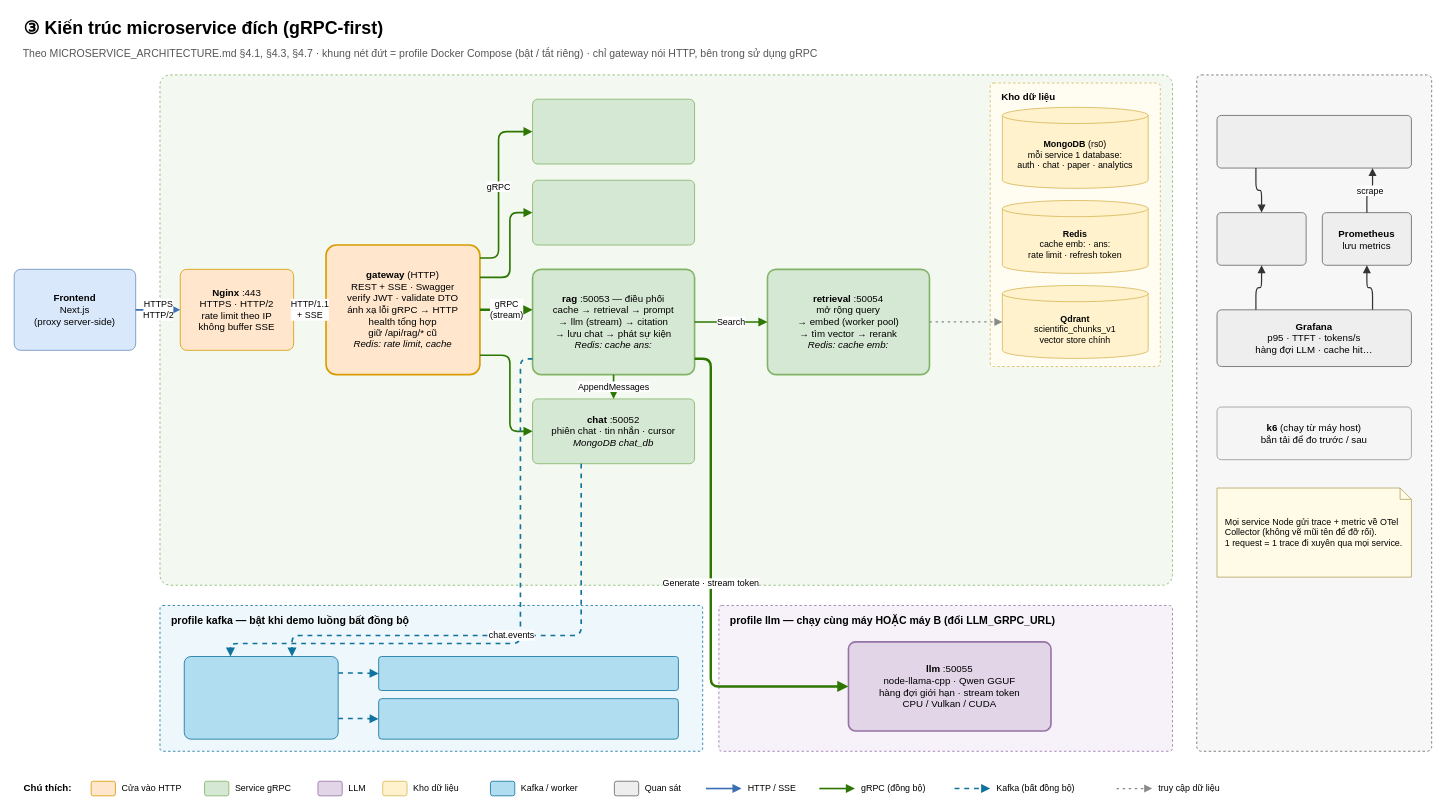
This 1446x811 diagram has some shape labels left out. The shapes that lost their labels are listed below. From the top down, each one's box as (x1, y1, x2, y2) in pixels, then its label:
(532, 98, 695, 164): auth :50051 đăng ký · đăng nhập · JWT MongoDB auth_db · Redis
(1216, 115, 1411, 168): OTel Collector nhận trace + metric (OTLP)
(532, 179, 695, 245): paper :50056 metadata paper · yêu cầu nạp MongoDB paper_db → Kafka
(1216, 212, 1306, 265): Jaeger xem trace
(159, 74, 1172, 585): profile core — luôn bật
(1196, 74, 1432, 751): profile observability — bật khi đo performance
(378, 656, 678, 691): worker-analytics — đọc sự kiện, ghi MongoDB analytics_db
(183, 656, 338, 739): Kafka (KRaft) chat.events paper.ingest.requested paper.ingested
(378, 698, 678, 739): worker-ingest — chunk paper → gọi retrieval.UpsertChunks + paper.UpsertPapers
